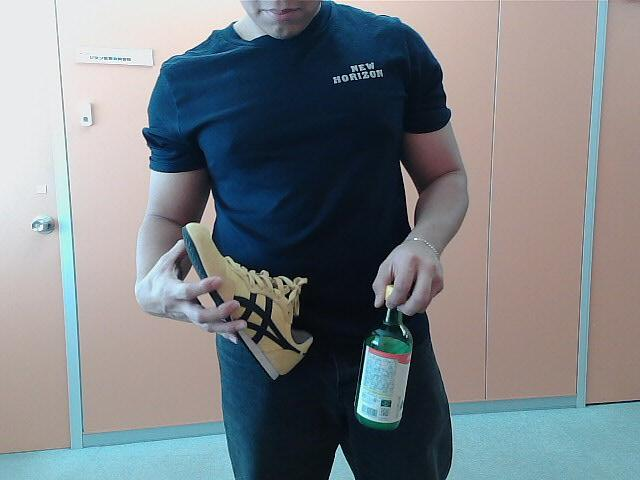Lemon_sapporo: (354, 278, 415, 434)
Shoes: (178, 215, 312, 385)
